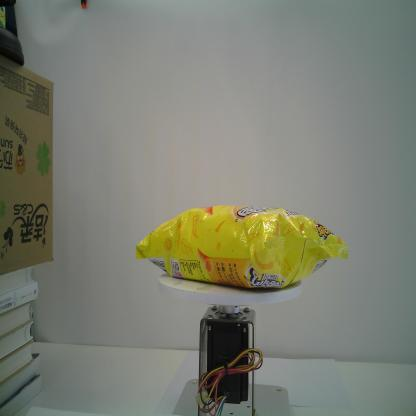Puffed Food: (132, 202, 348, 290)
